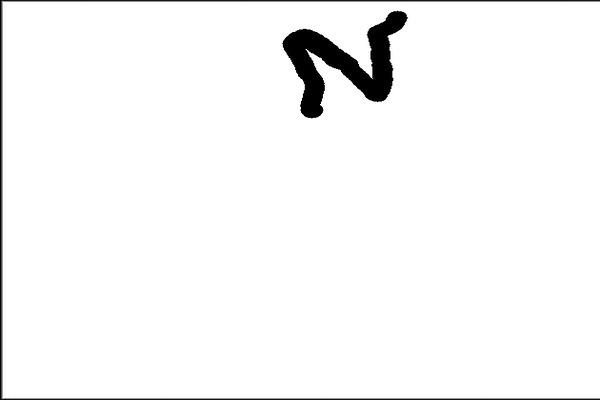N: (277, 6, 412, 123)
